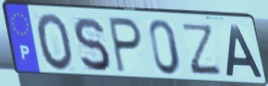0: (147, 18, 183, 78)
A: (224, 23, 264, 79)
O: (35, 12, 75, 73)
P: (106, 15, 144, 76)
S: (72, 15, 112, 73)
Z: (182, 22, 223, 77)
